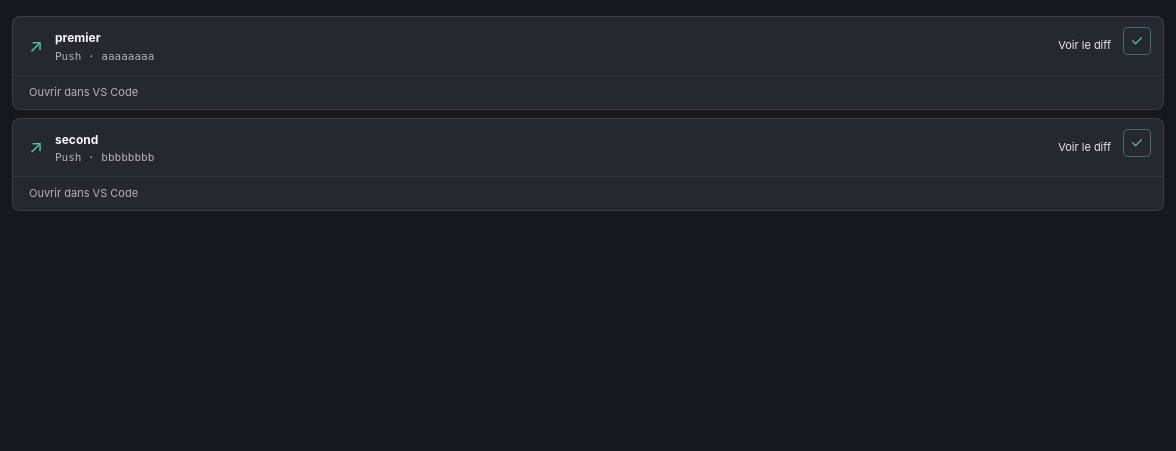
Test: déplie le diff du push sous sa carte, fichier par fichier, puis le replie
Step 1. Click the button "↗ premier Push · aaaaaaaa Voir le diff" → (78, 38), box [13,17,1163,75]
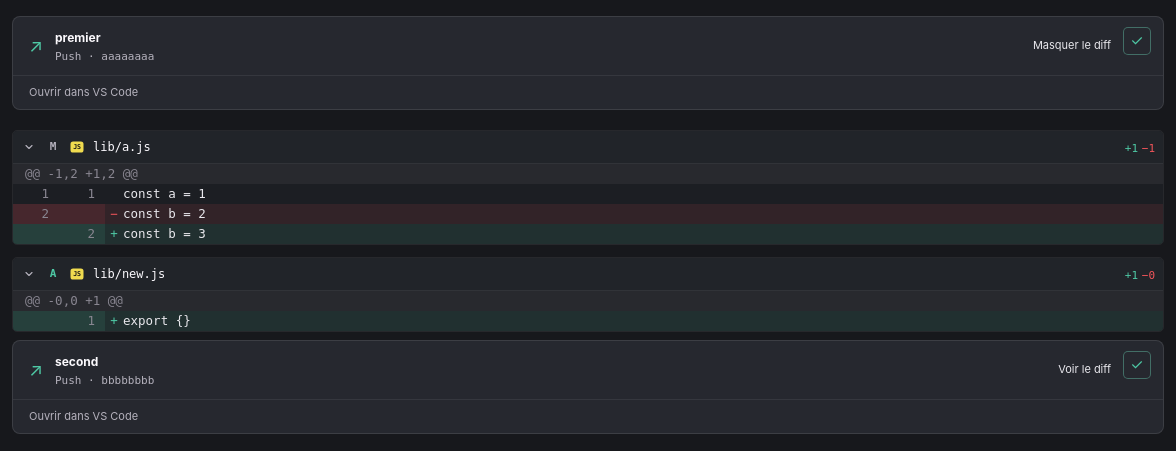
Now the text "lib/new.js" is shown, box [93,267,165,281]
Now the number of rows with class "is-addition" is 2, box [13,224,1163,244]; [13,311,1163,331]
Step 2. Click the button "premier" → (78, 38), box [13,17,1163,75]
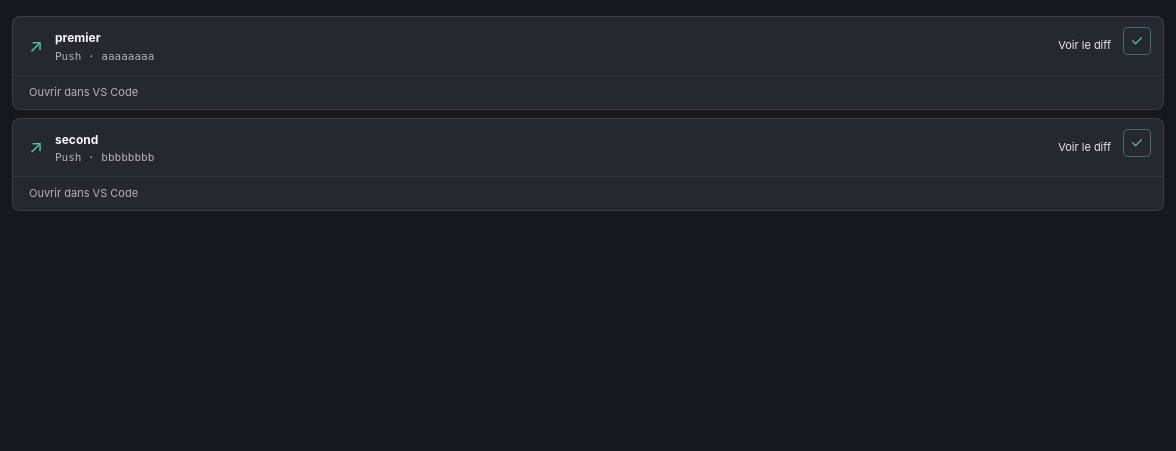
Now the element with class "changes-view" is gone
